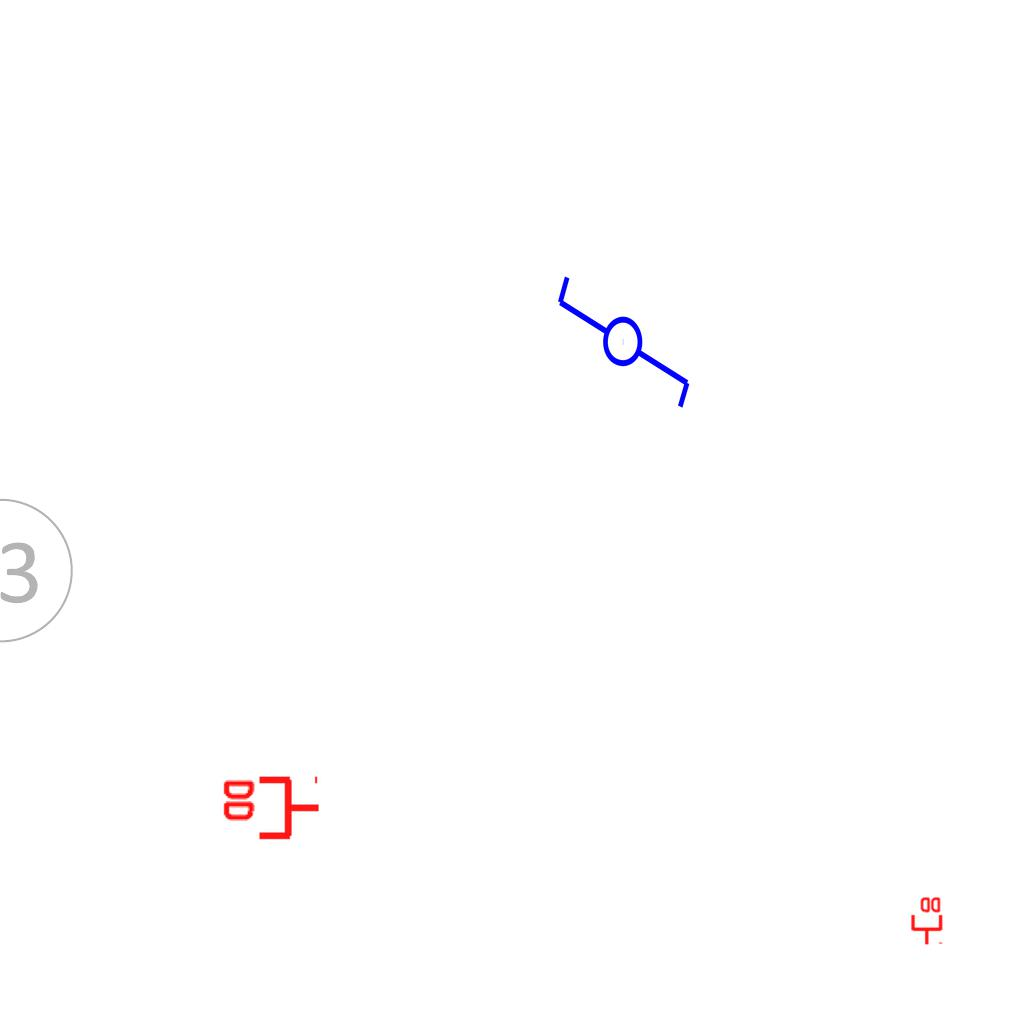Datenanschluss_zweifach: (219, 775, 322, 844), (909, 895, 943, 946)
Wechselschalter: (553, 255, 697, 412)
